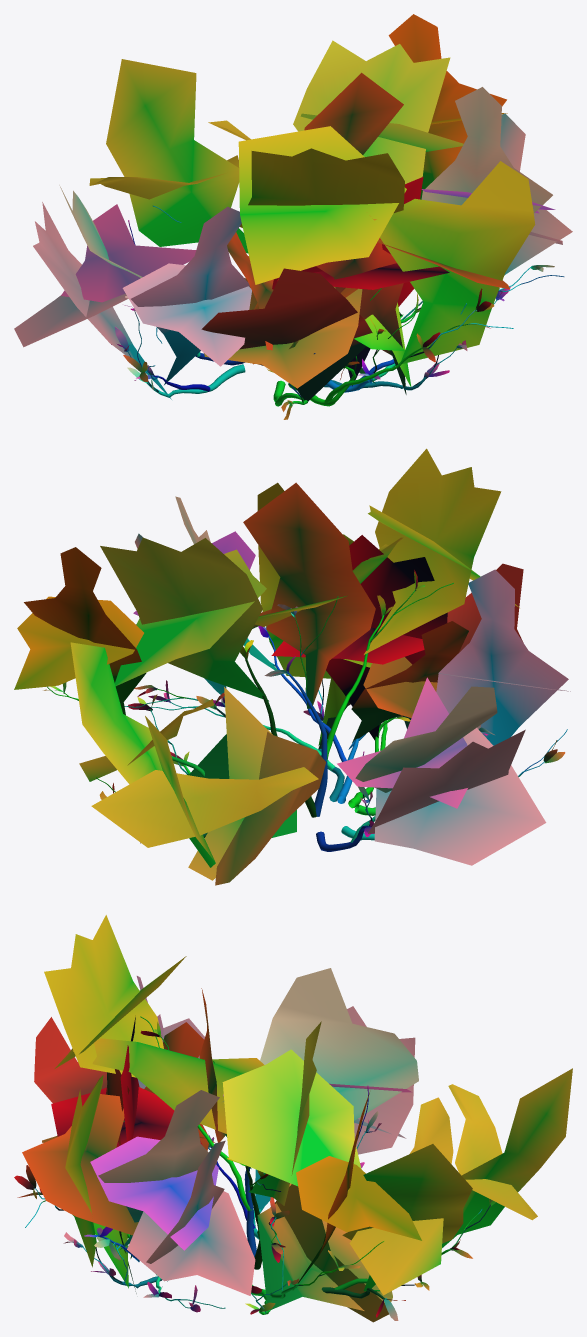
The model's file is Downy_Willow_wknlfiuqx_Mid_wknlfiuqx_VarF_LOD2.fbx.
The picture shows the model from 3 angles, top to bottom: view 1: azimuth 30°, elevation 25°; view 2: azimuth 150°, elevation 25°; view 3: azimuth 270°, elevation 25°; orthographic projection.
Parts seen in each view (by area): view 1: _dqaw_VarF_LOD3; view 2: _dqaw_VarF_LOD3; view 3: _dqaw_VarF_LOD3.
Boxes of the visible parts, x1=… form: _dqaw_VarF_LOD3: x1=14, y1=14, x2=572, y2=419; _dqaw_VarF_LOD3: x1=14, y1=448, x2=570, y2=885; _dqaw_VarF_LOD3: x1=14, y1=915, x2=572, y2=1322.
Size of the model in its own units: 197 by 125 by 188.
